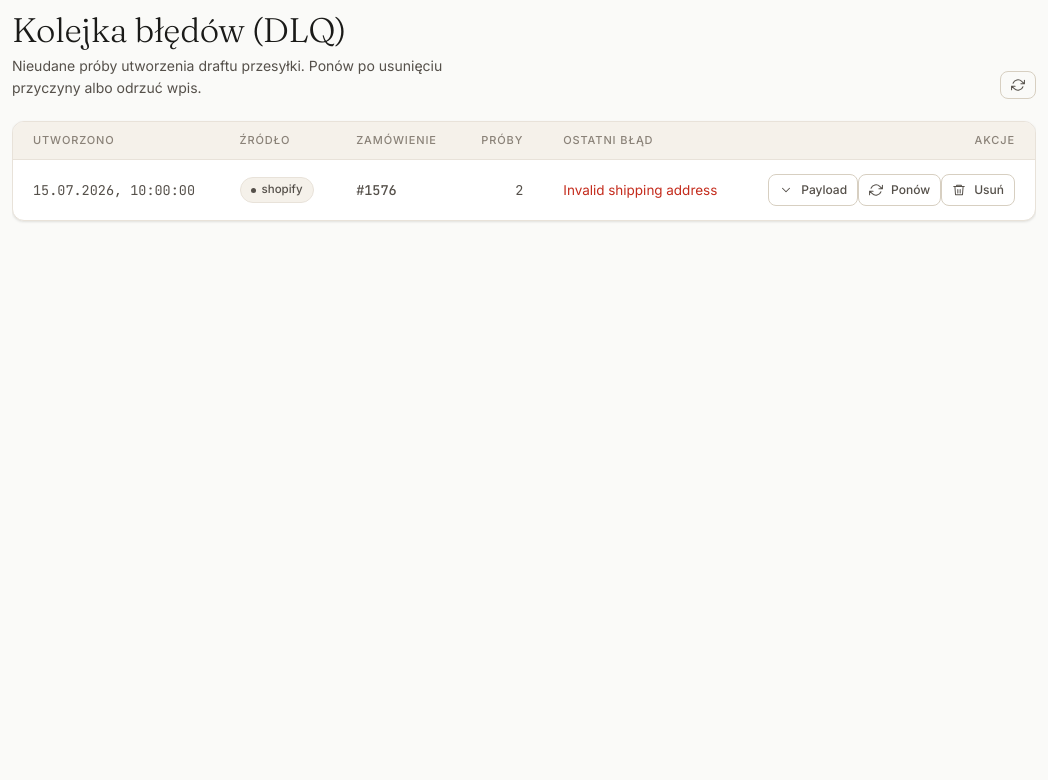
Test case: DlqView › discards an event after confirmation
Expected: the text "#1576" is shown, left=336, top=159, right=460, bottom=220
Click the button "Usuń": (978, 190) left=941, top=174, right=1015, bottom=206
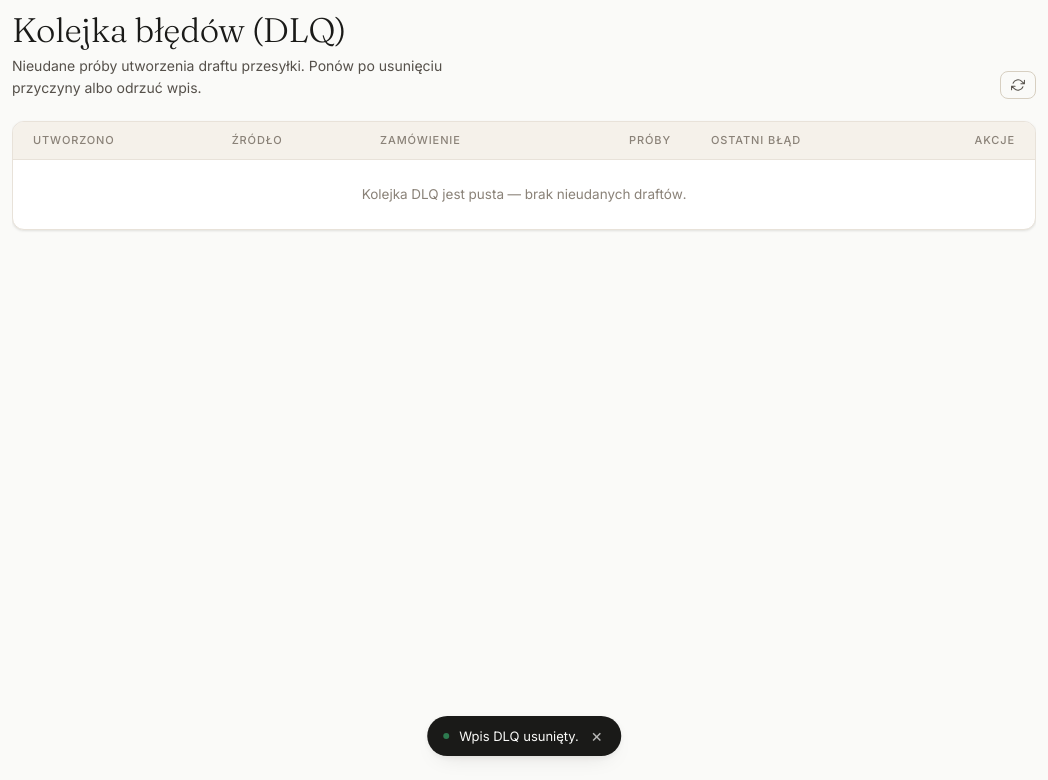
Now the text "Wpis DLQ usunięty." is shown, box left=459, top=726, right=579, bottom=746
Now the text "Kolejka DLQ jest pusta — brak nieudanych draftów." is shown, box left=13, top=159, right=1035, bottom=229
